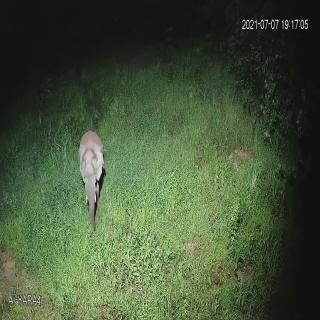Elephant: (76, 122, 110, 234)
